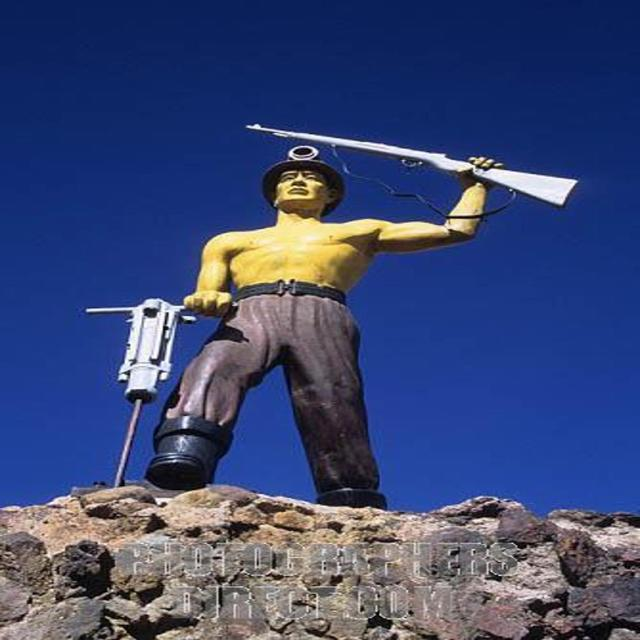nomask: (278, 154, 328, 203)
